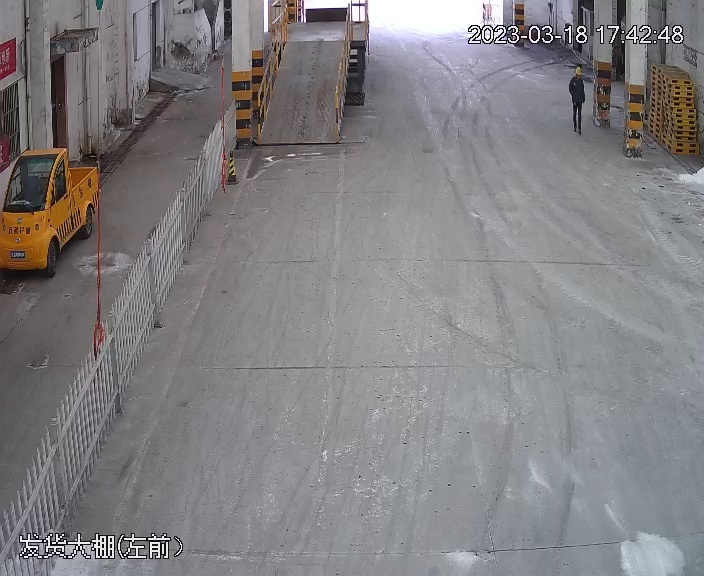head: (569, 65, 586, 85)
helmet: (574, 64, 583, 74)
people: (568, 63, 589, 135)
